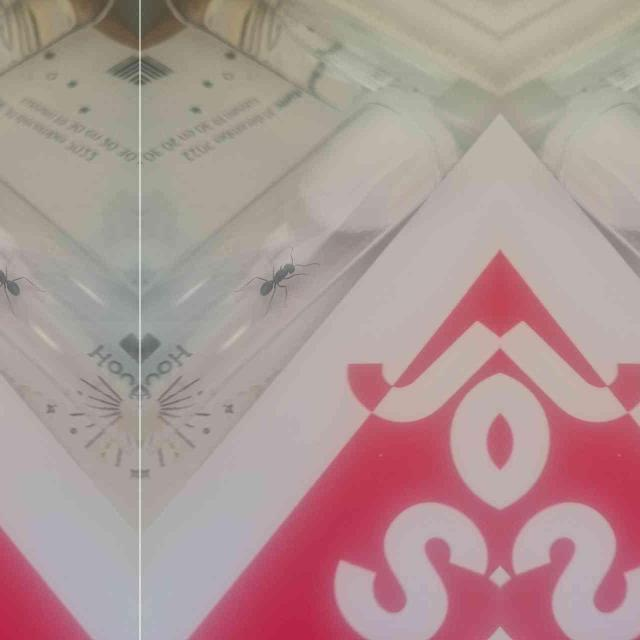Lasius: (262, 257, 306, 299), (0, 257, 16, 299)
